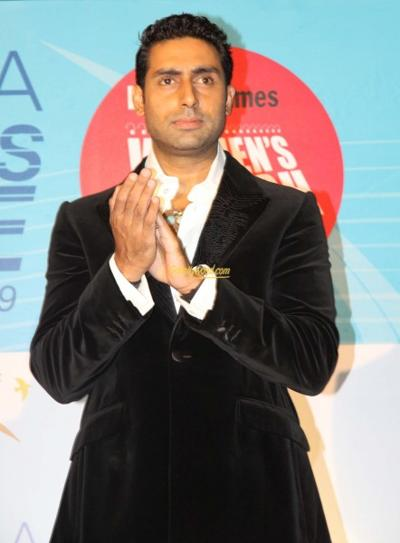person: (29, 14, 343, 543)
